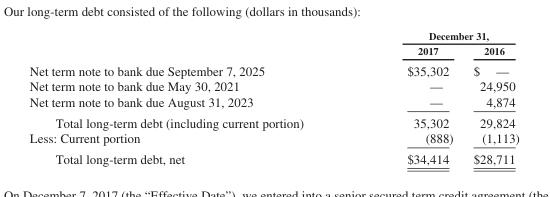table: (28, 29, 518, 165)
table column: (28, 29, 354, 165), (354, 29, 462, 165), (462, 29, 518, 165)
table column header: (28, 29, 518, 59)
table row: (28, 59, 518, 78), (28, 93, 518, 111), (28, 111, 518, 129), (28, 129, 518, 147), (28, 147, 518, 165), (28, 42, 518, 59), (28, 78, 518, 93), (28, 29, 518, 42)
table spanning cell: (354, 29, 518, 42)
